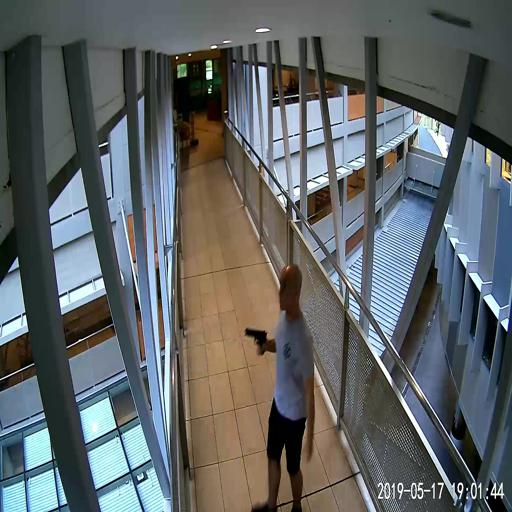pistol: (244, 328, 266, 356)
